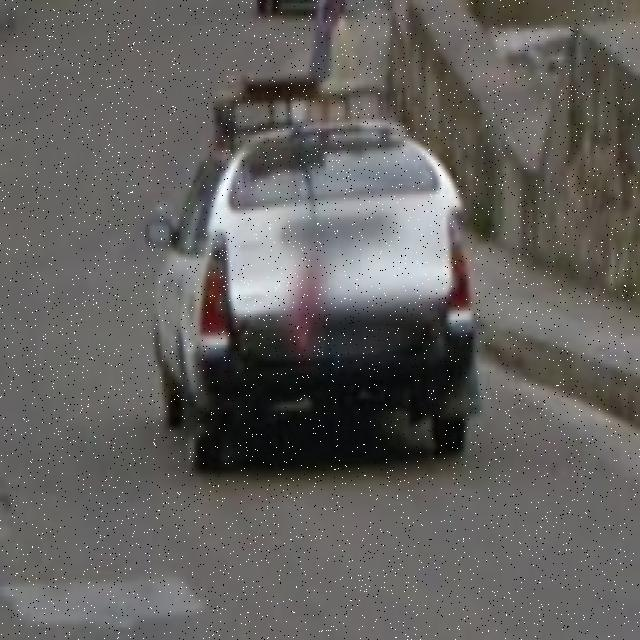cars: (147, 102, 476, 480)
